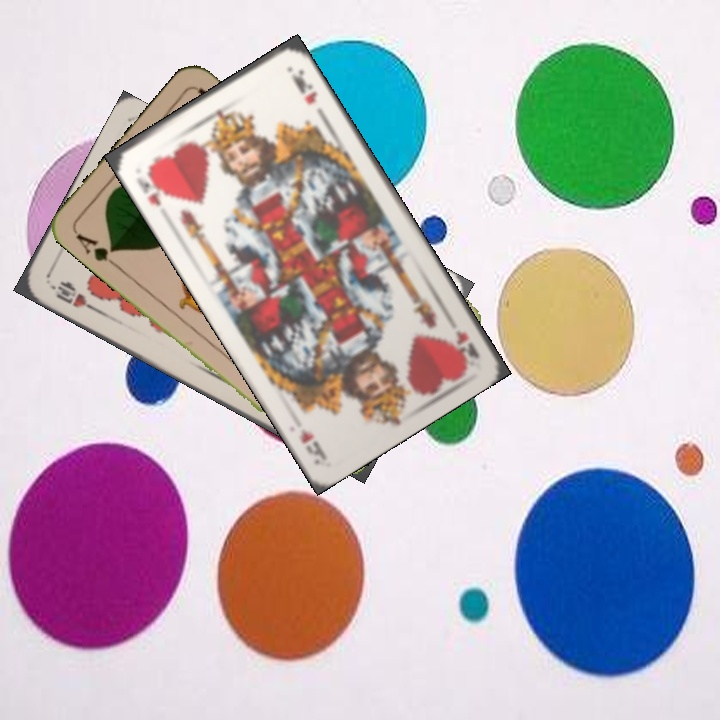GA: (71, 229, 121, 271)
H10: (45, 277, 99, 314)
HK: (132, 163, 169, 209), (451, 326, 482, 365)
